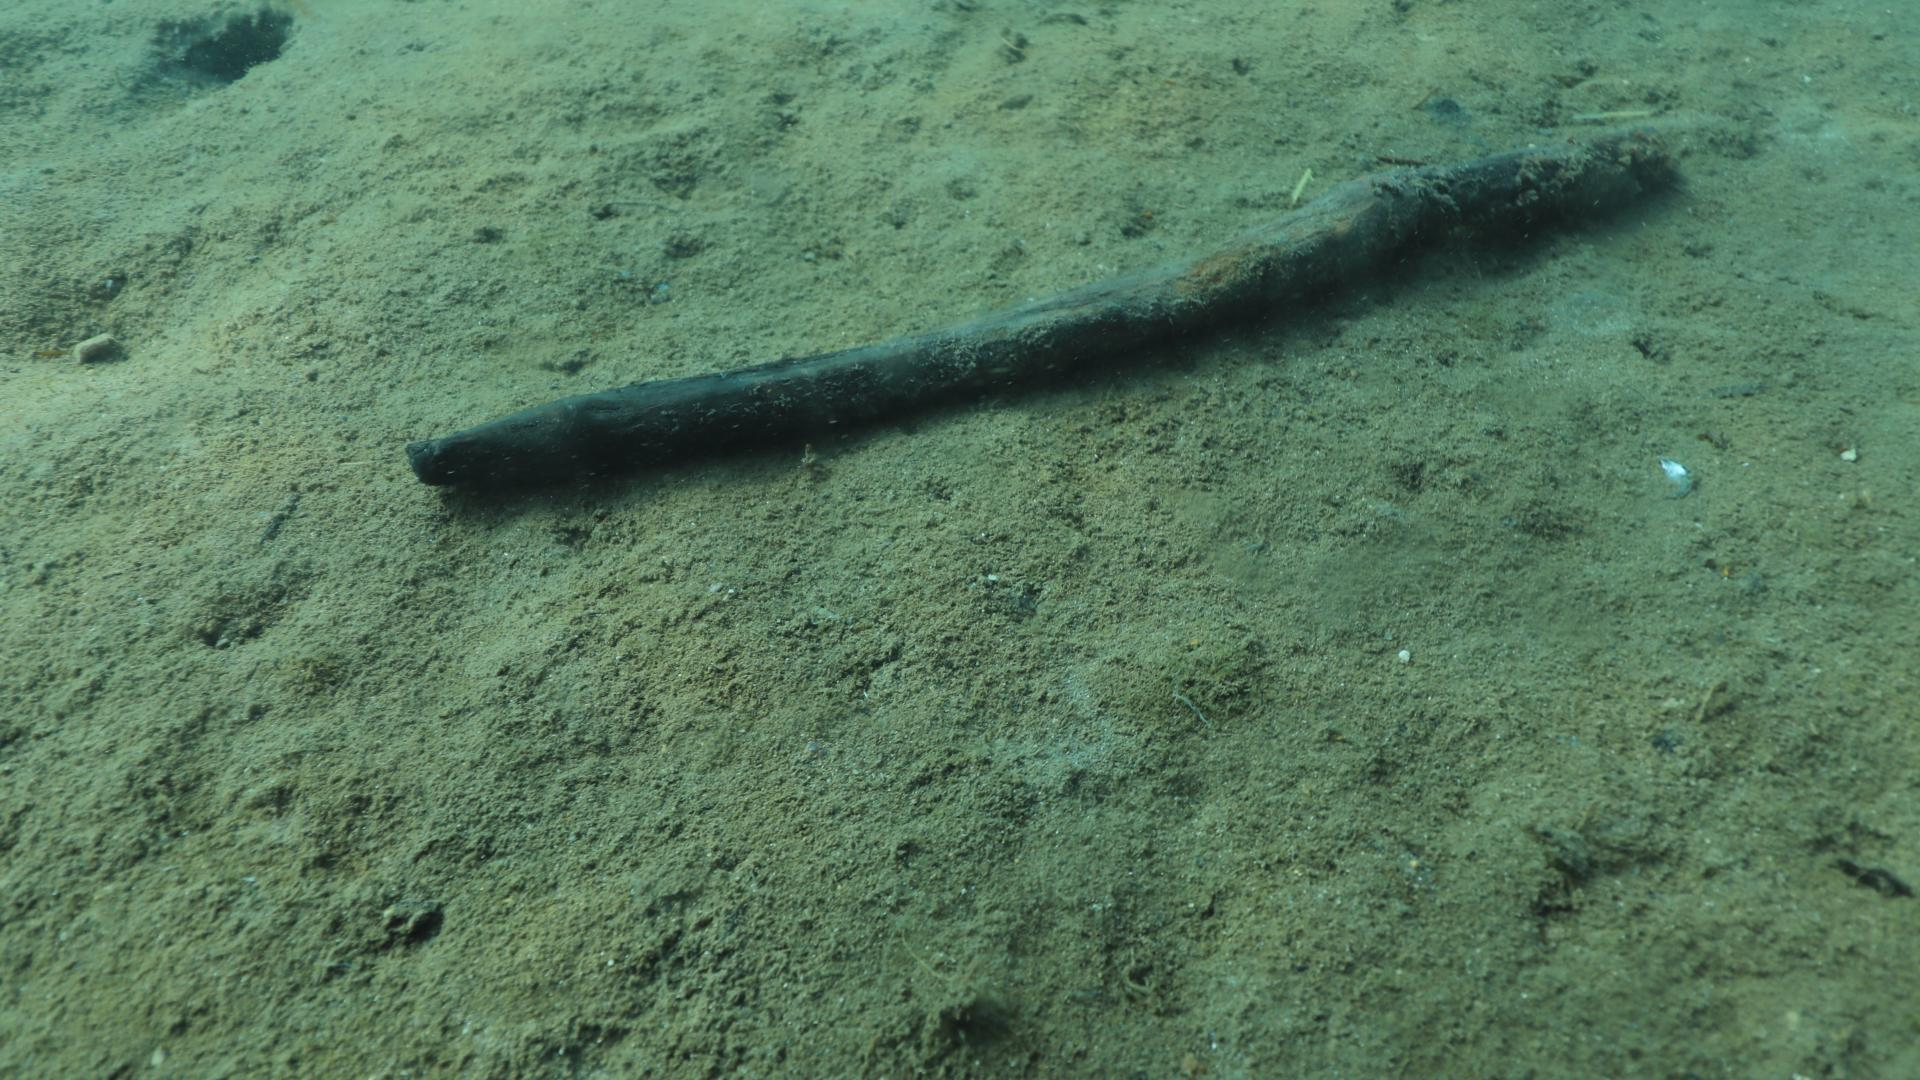wood: (401, 123, 1673, 489)
